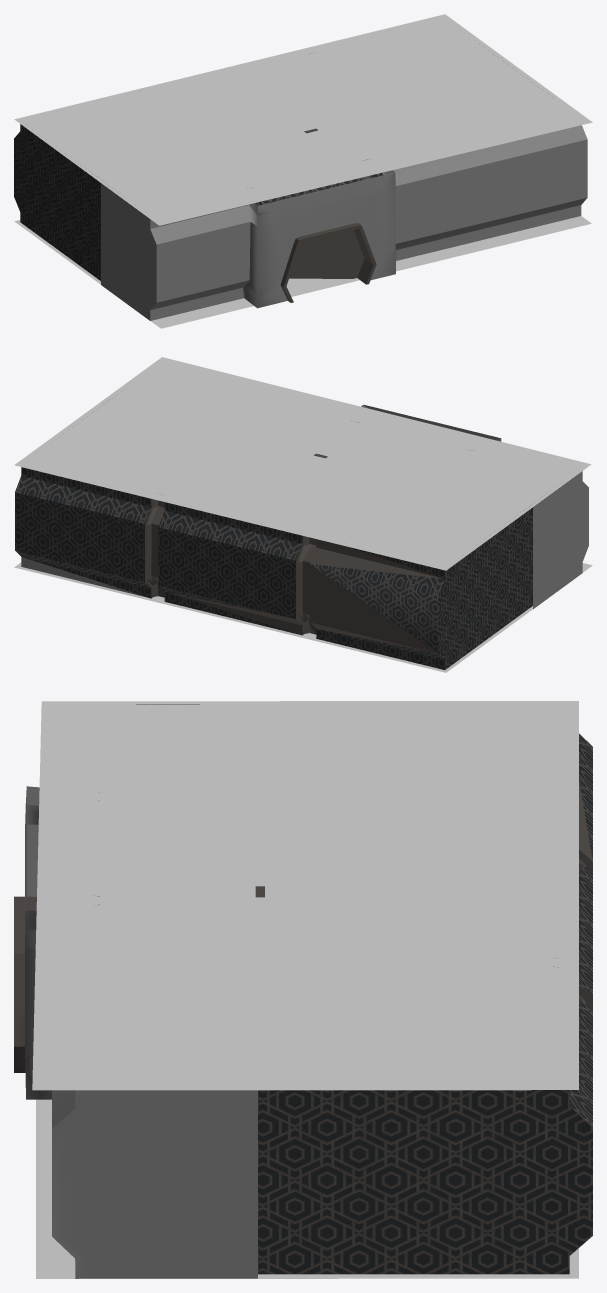
File: arsenal.obj
The picture shows the model from 3 angles, top to bottom: view 1: azimuth 30°, elevation 25°; view 2: azimuth 150°, elevation 25°; view 3: azimuth 270°, elevation 25°; orthographic projection. The views are drawn at different scales.
Visible parts, largest first — view 1: polySurface2624; view 2: polySurface2624; view 3: polySurface2624.
Boxes of the visible parts, bbox=[...] form: polySurface2624: bbox=[14, 14, 592, 328]; polySurface2624: bbox=[14, 357, 592, 672]; polySurface2624: bbox=[14, 701, 592, 1278].
Bounding box in the file's own units: 89.48 × 20.41 × 56.27.
